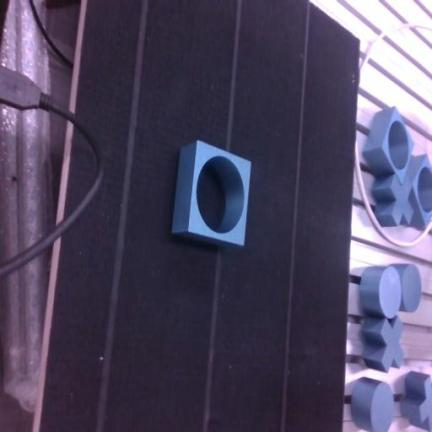hole: (171, 140, 251, 246)
